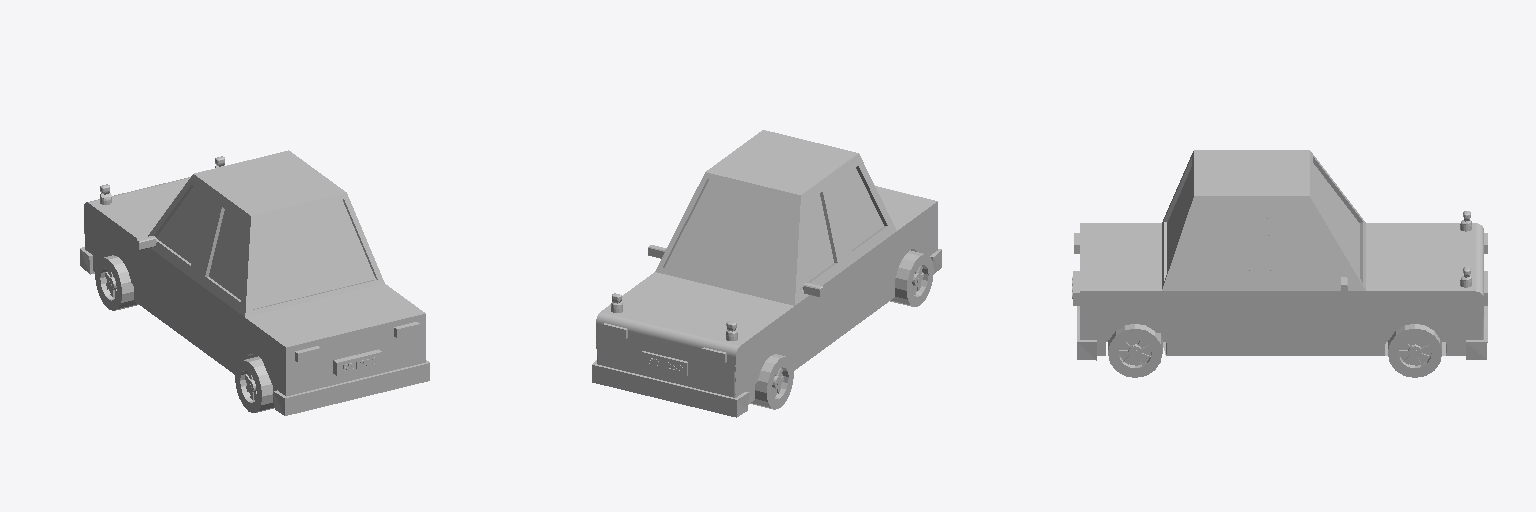
File: auto.obj
3 renders of one model, left to right at view 1: azimuth 30°, elevation 25°; view 2: azimuth 150°, elevation 25°; view 3: azimuth 270°, elevation 25°, orthographic.
Visible parts, largest first — view 1: Text, Cylinder.004_Cylinder.006, Cylinder.001_Cylinder.003; view 2: Text, Cylinder.004_Cylinder.006, Cylinder.001_Cylinder.003; view 3: Text, Cylinder.004_Cylinder.006, Cylinder.001_Cylinder.003.
Part boxes in pixels (x1,y1,x2,y2): Text: (80,150,429,415); Cylinder.004_Cylinder.006: (235,356,273,412); Cylinder.001_Cylinder.003: (95,255,138,310); Text: (592,130,941,417); Cylinder.004_Cylinder.006: (890,250,933,306); Cylinder.001_Cylinder.003: (750,354,793,409); Text: (1072,150,1487,360); Cylinder.004_Cylinder.006: (1108,324,1162,377); Cylinder.001_Cylinder.003: (1388,324,1441,377).
Size of the model in its own units: 2.89 by 2.66 by 6.05.